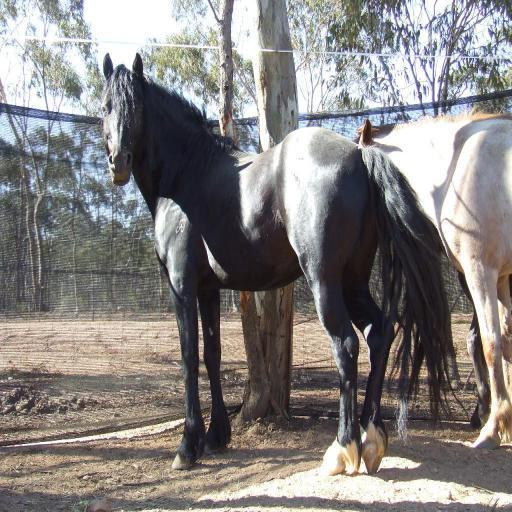horse: (98, 52, 472, 476), (352, 102, 512, 452)
